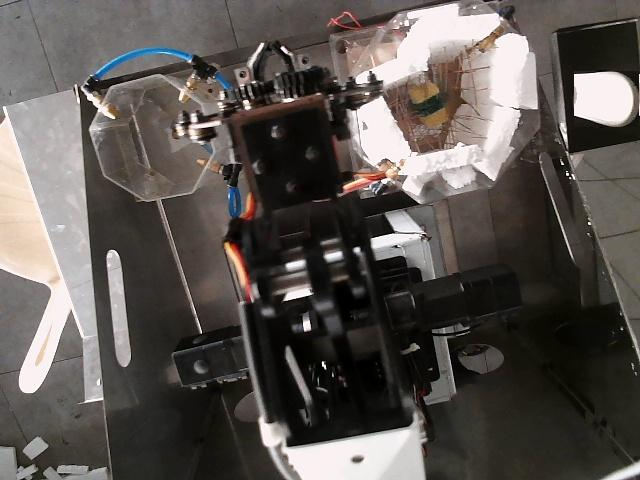cup: (574, 71, 639, 127)
